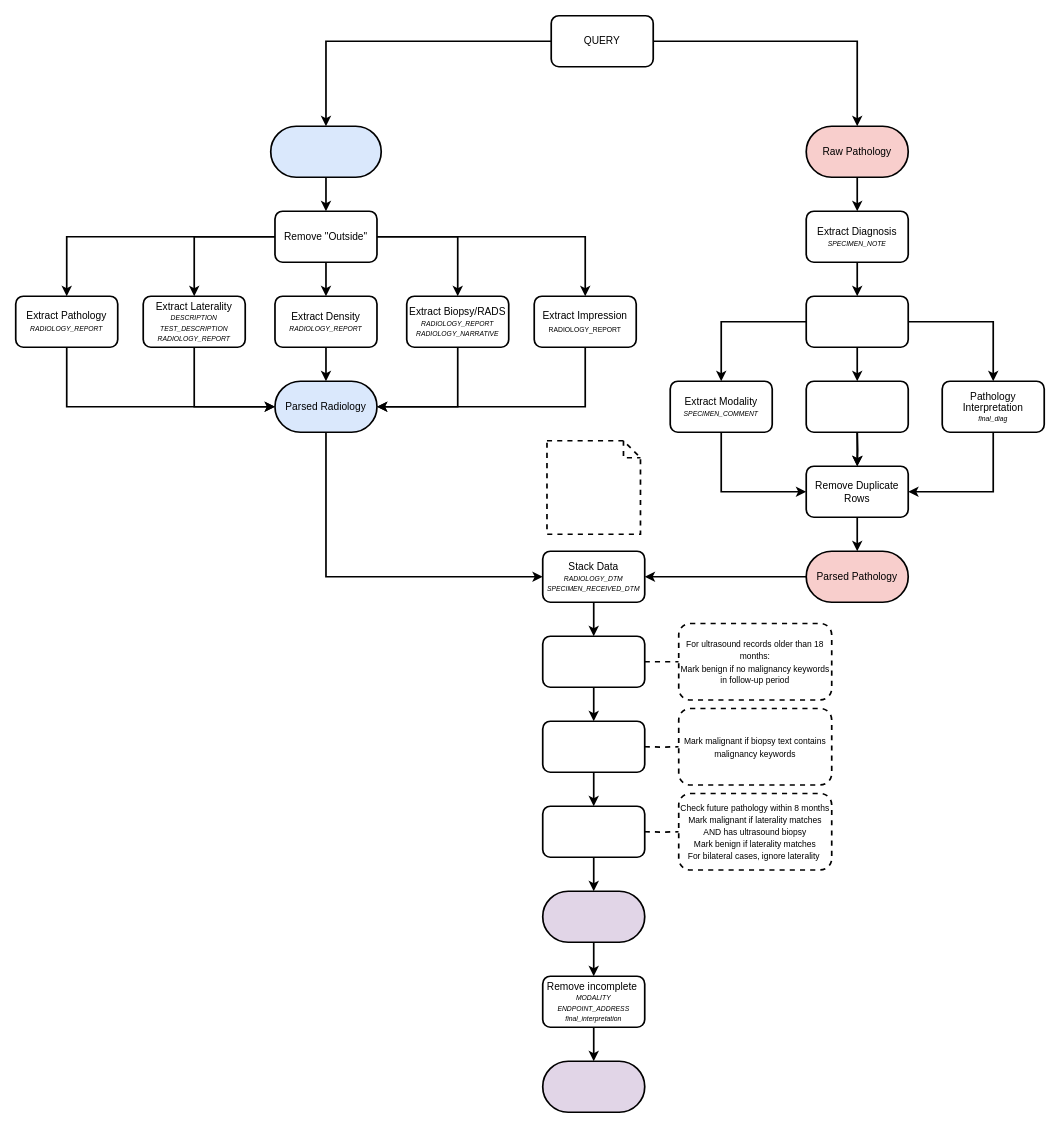
The diagram is 1059 pixels wide and 1127 high, and some of its shapes have lost their labels. Here are the shapes that lost their labels. From the top down, the centre of each, then its label:
At (325,151): "Raw Radiology".
At (857,321): "Split Bilateral Cases final_diag".
At (857,406): "Extract Laterality final_diag PART_DESCRIPTION SPECIMEN_NOTE".
At (593,487): "Path and Radio data resides on separate rows, with a unified DATE column".
At (593,661): "Check for assumed benign cases BENIGN1".
At (593,746): "Check for malignant cases MALIGNANT1".
At (593,831): "Find matching path BENIGN2 MALIGNANT2".
At (593,916): "Combined Data".
At (593,1086): "Final Output".
